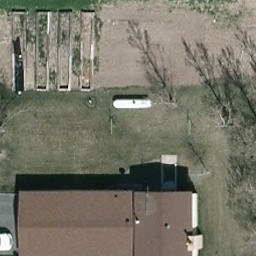car: (0, 233, 14, 250)
